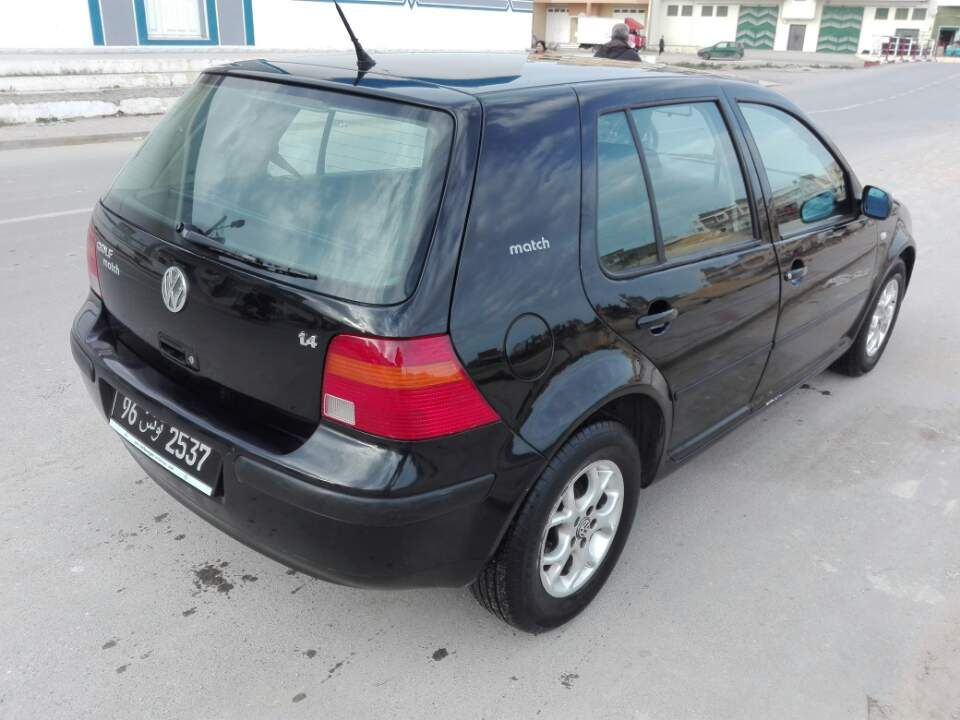LP: (109, 382, 219, 497)
